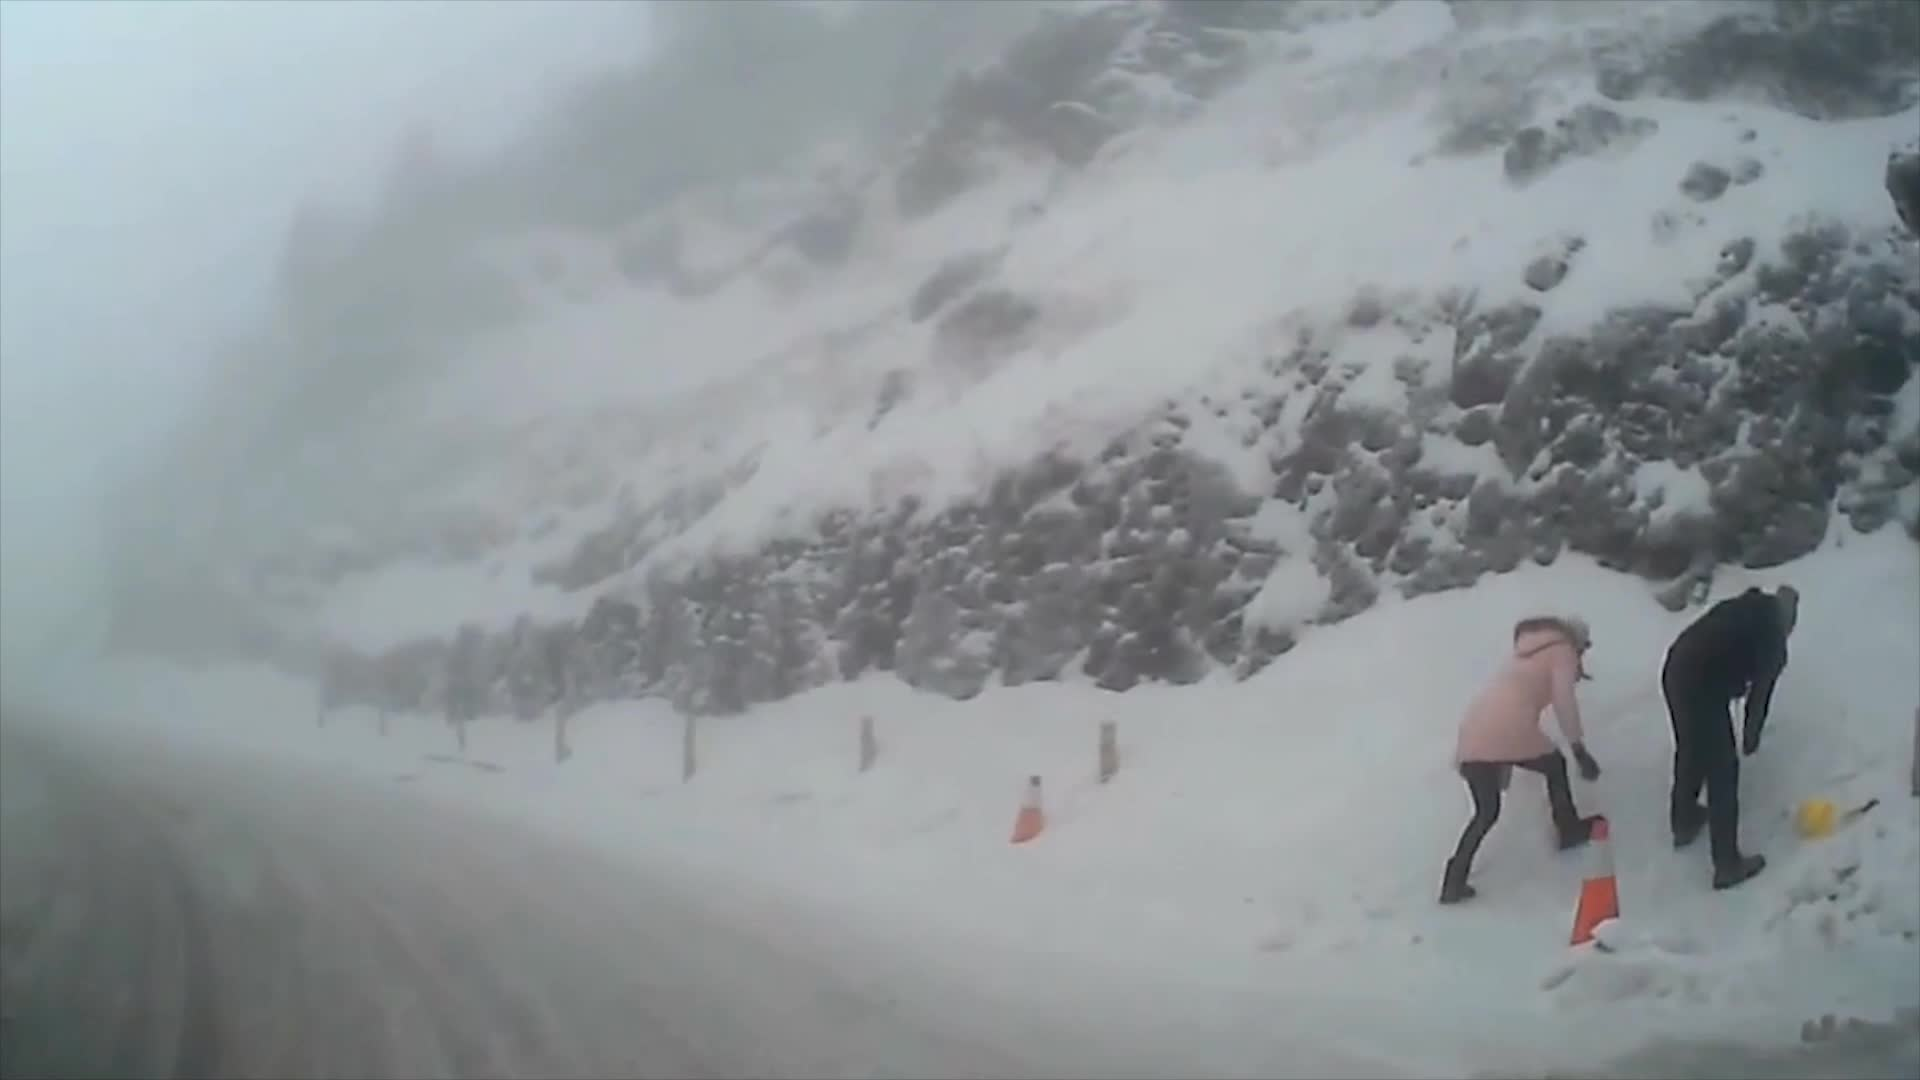pedestrian: (1441, 617, 1608, 901), (1664, 584, 1802, 895)
